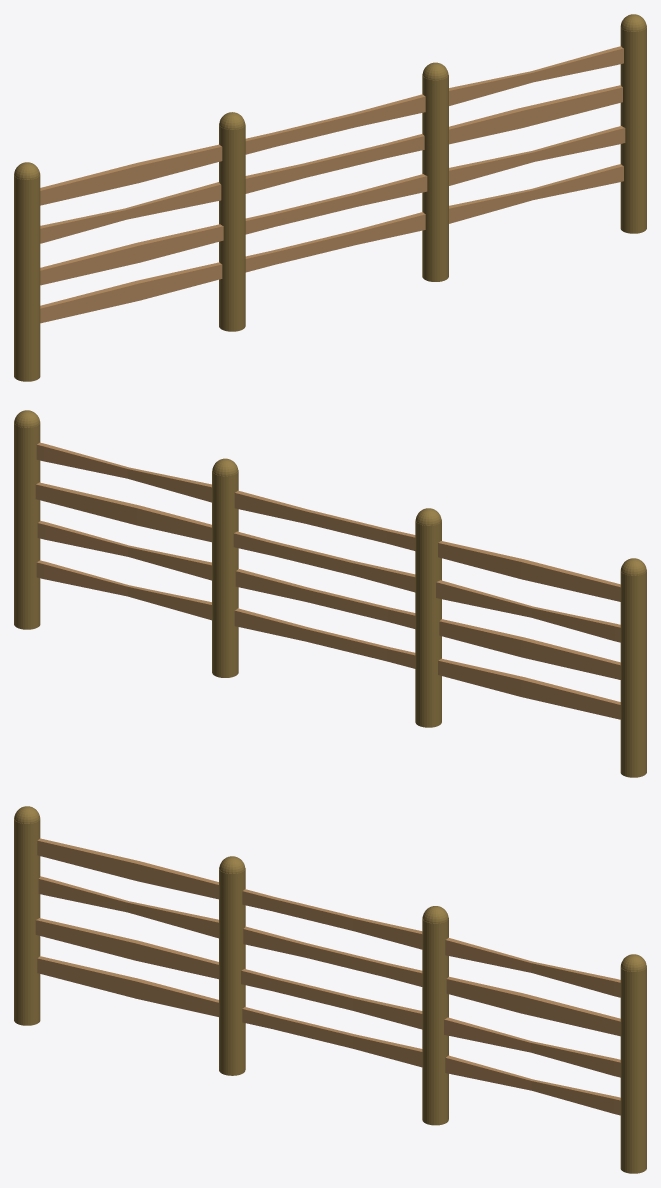
File: Fence.fbx
The picture shows the model from 3 angles, top to bottom: view 1: azimuth 30°, elevation 25°; view 2: azimuth 150°, elevation 25°; view 3: azimuth 330°, elevation 25°; orthographic projection.
Visible parts, largest first — view 1: Cube.014; view 2: Cube.014; view 3: Cube.014.
Boxes of the visible parts, x1,y1,x2,y2 form: Cube.014: (14, 14, 646, 381); Cube.014: (14, 410, 646, 777); Cube.014: (14, 806, 646, 1173).
Size of the model in its own units: 1548 by 500 by 56.39.
